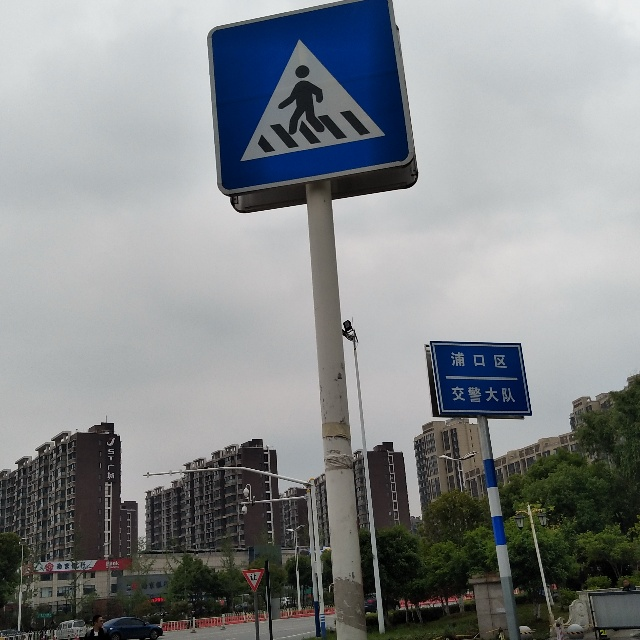crosswalk: (207, 4, 415, 195)
